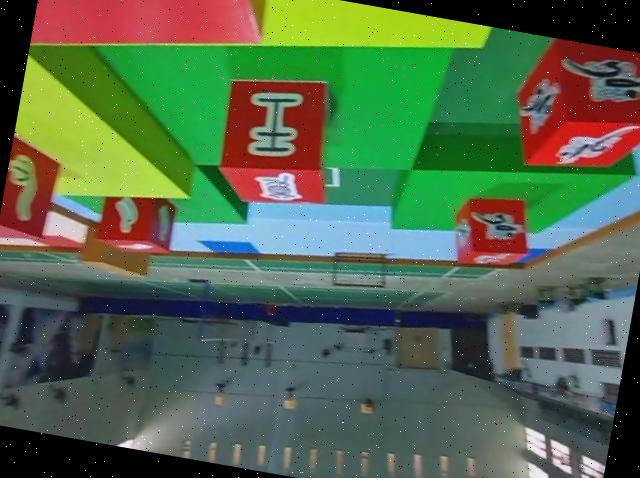R1: (500, 32, 640, 190), (446, 188, 538, 277)
R2 Fake: (211, 67, 344, 217)
R2 Real: (0, 127, 66, 253), (92, 187, 180, 261)
